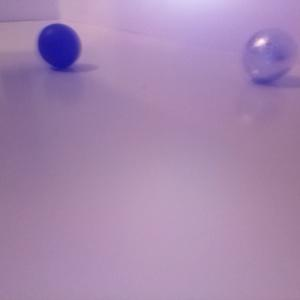alive_ball: (241, 28, 294, 83)
dead_ball: (38, 24, 79, 68)
